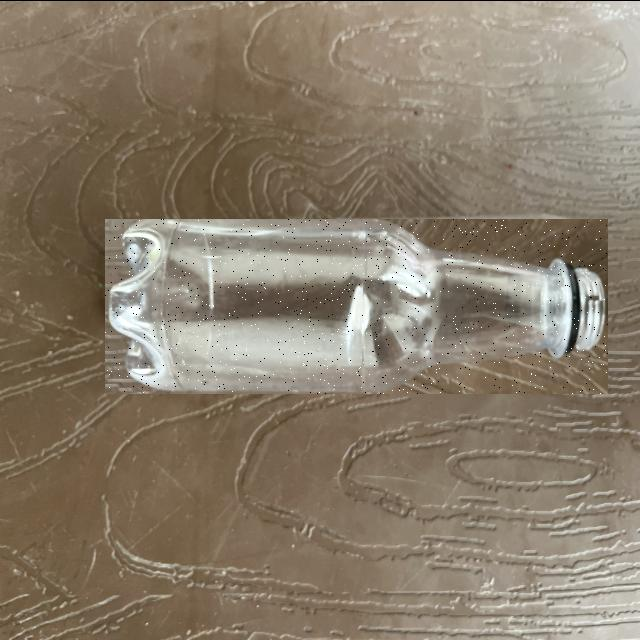PET_With_Cap: (105, 218, 608, 393)
